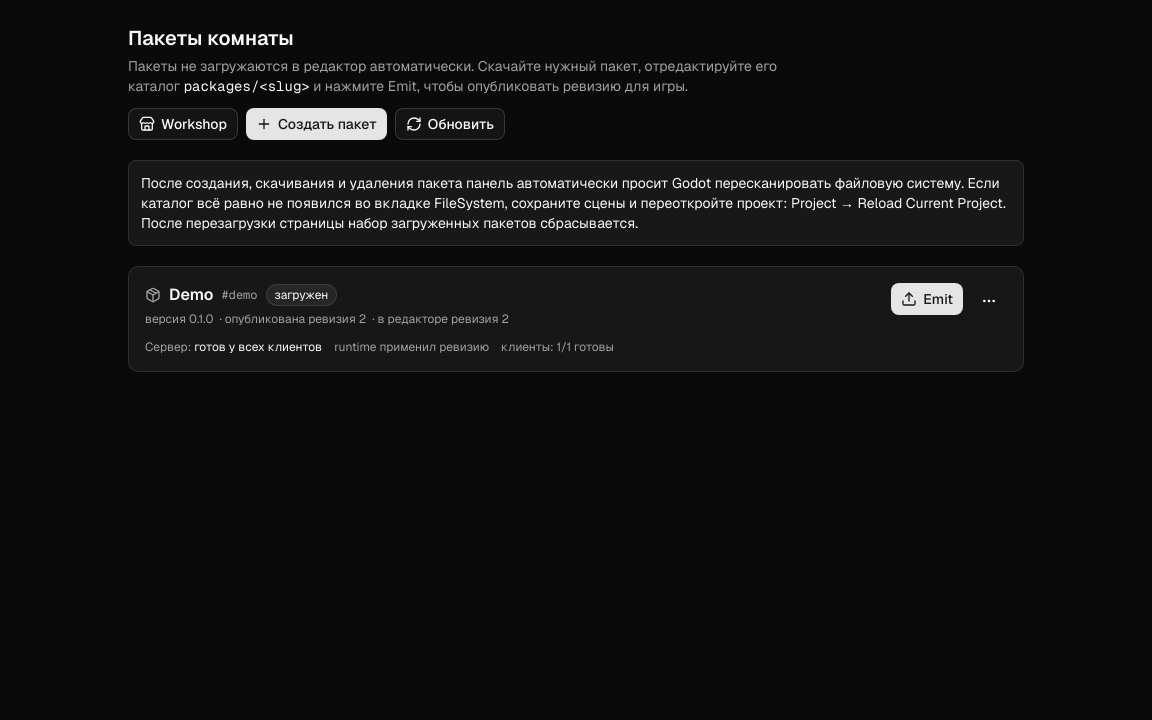
PackagesTab › opens the creation modal from the header button
Click the button "Создать пакет" at {"x": 316, "y": 124}, box [246,108,387,140]
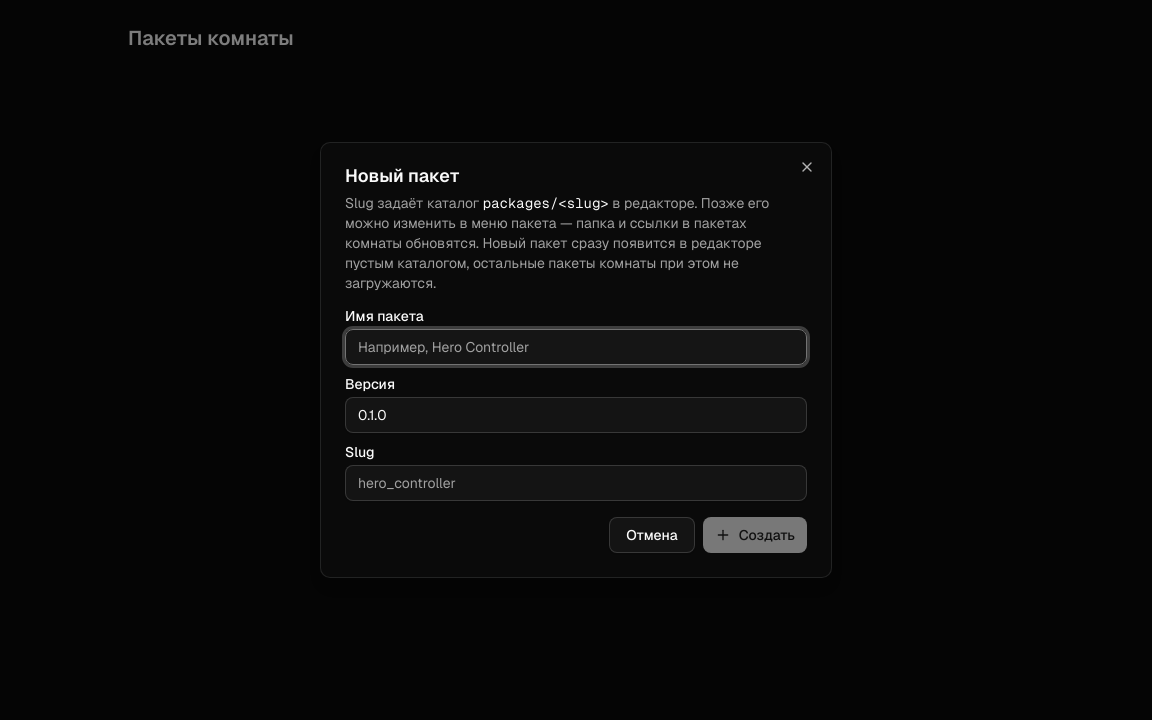
Result: the field labelled "Slug" is shown at [345,465,807,501]
Result: the field labelled "Версия" holds "0.1.0" at [345,397,807,433]
